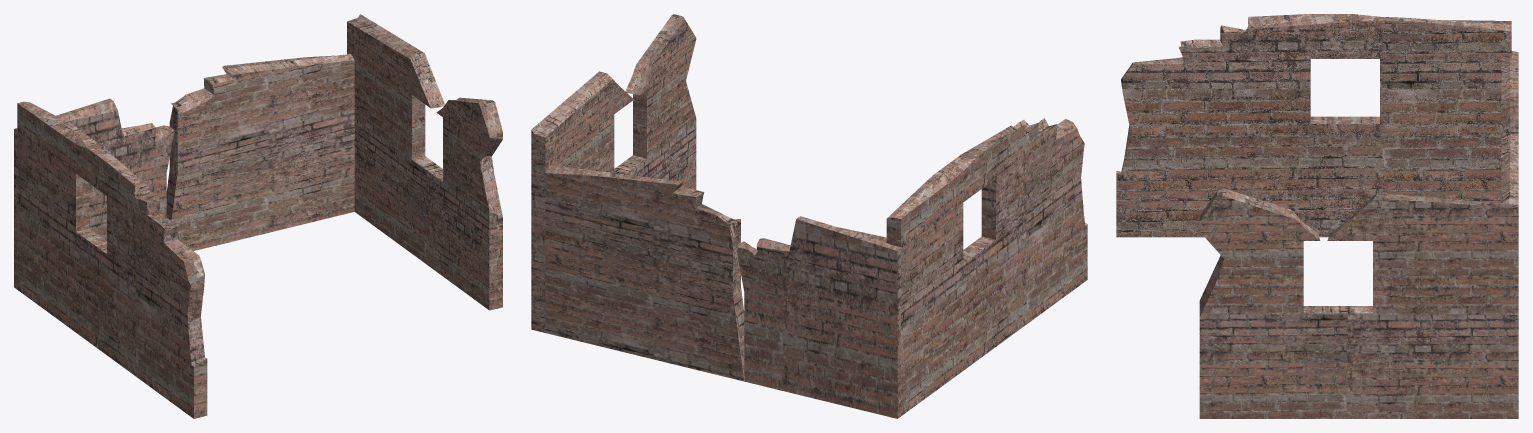
The model's file is nha1.fbx.
3 views of the same model, side by side, from view 1: azimuth 30°, elevation 25°; view 2: azimuth 150°, elevation 25°; view 3: azimuth 270°, elevation 25° (orthographic). The views are drawn at different scales.
Parts seen in each view (by area): view 1: Part1.003, Part1.002, Part1.001; view 2: Part1.003, Part1.002, Part1.001; view 3: Part1.002, Part1.001, Part1.003.
Part boxes in pixels (box(x1,y1,x2,y2)): Part1.003: box(14, 54, 354, 290); Part1.002: box(17, 101, 207, 418); Part1.001: box(347, 14, 502, 310); Part1.003: box(545, 165, 905, 418); Part1.002: box(886, 118, 1087, 415); Part1.001: box(531, 14, 696, 332); Part1.002: box(1116, 14, 1511, 237); Part1.001: box(1199, 188, 1518, 418); Part1.003: box(1501, 51, 1518, 204).
Bounding box in the file's own units: 484 × 266 × 435.
Materials: 1 (1 with a texture image).
